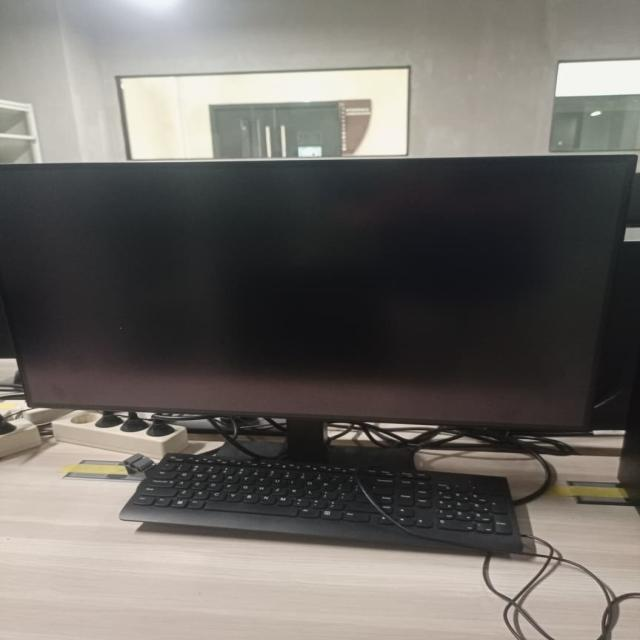keyboard: (121, 452, 537, 552)
monitor: (3, 153, 635, 445)
